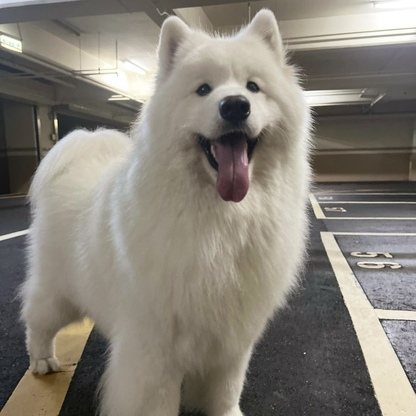samoyed: (14, 6, 321, 416)
